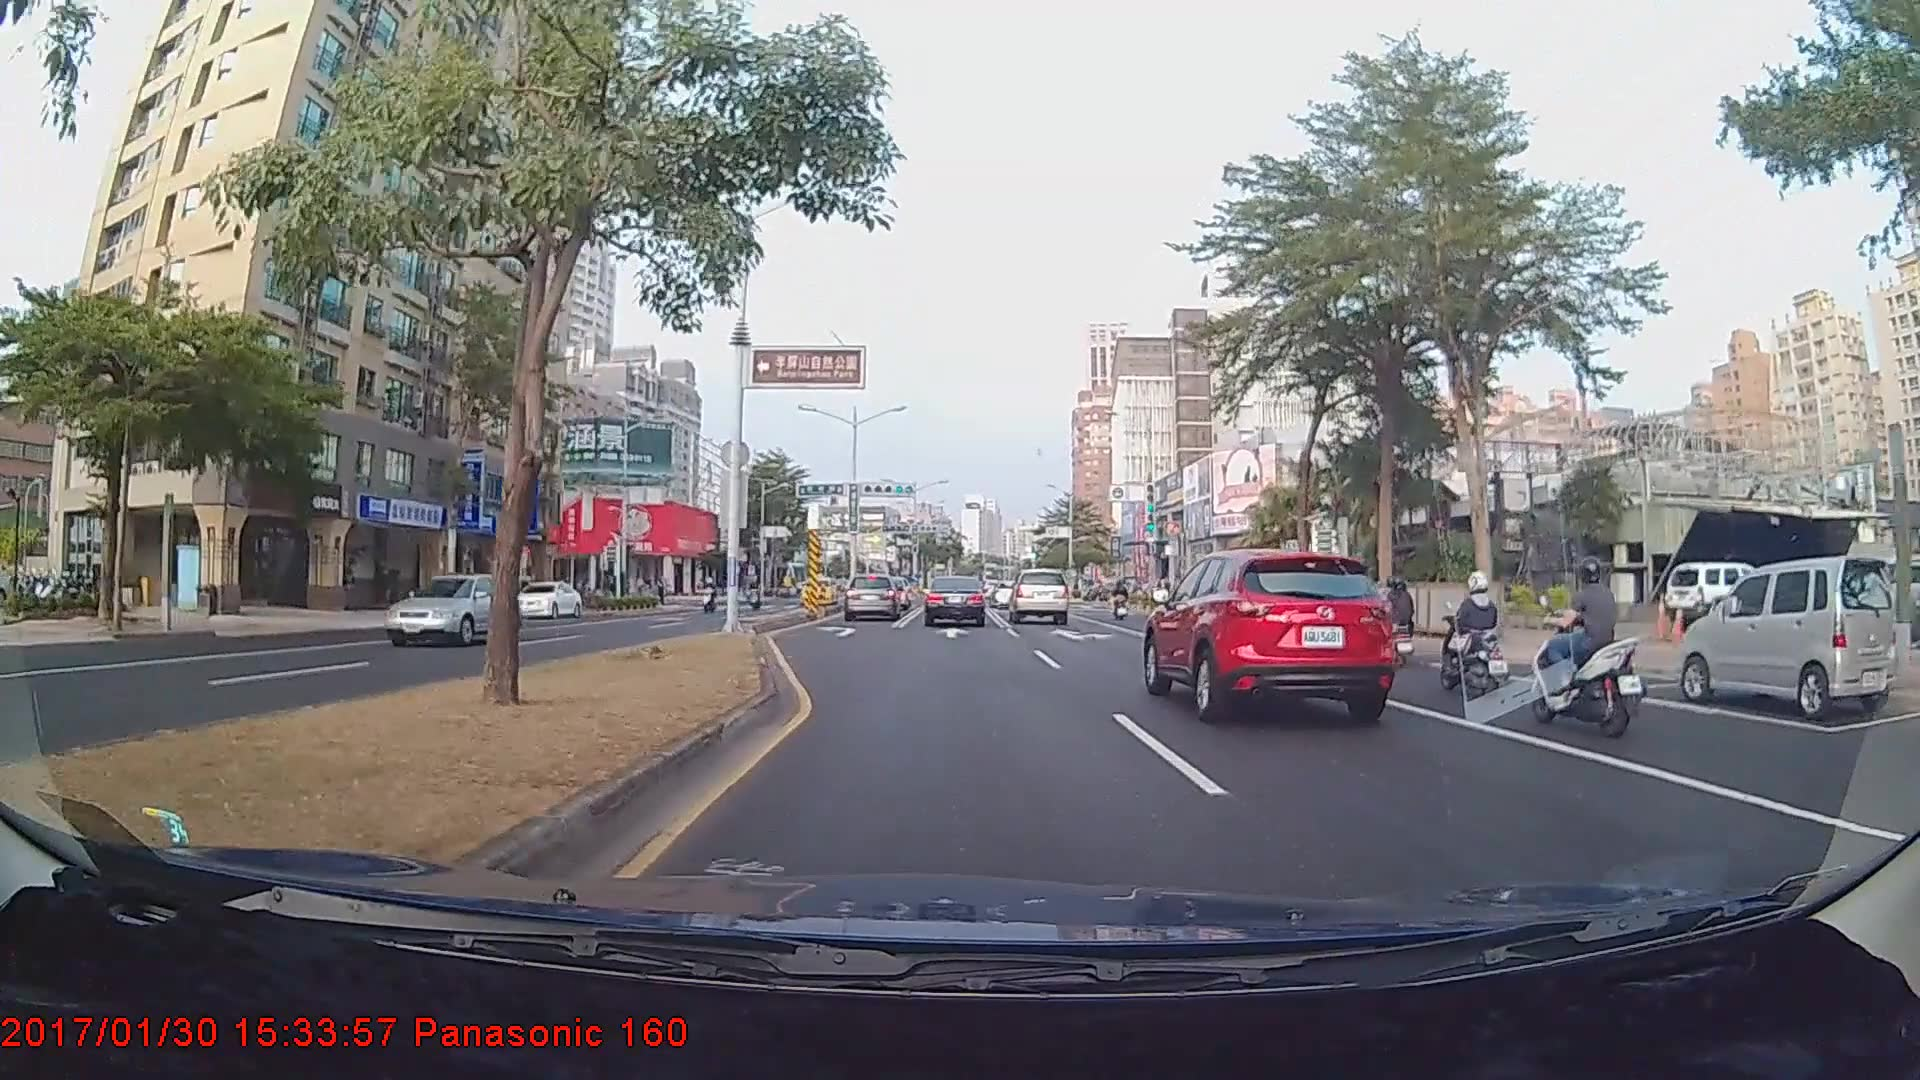rider: (1524, 553, 1647, 739), (1431, 572, 1528, 714), (1368, 576, 1419, 679), (1109, 583, 1135, 626)
vehicle: (1146, 540, 1399, 721), (1675, 557, 1902, 718), (383, 572, 515, 647), (1665, 560, 1757, 622), (1006, 568, 1070, 624), (924, 574, 986, 628), (841, 572, 905, 622), (508, 581, 583, 621)
